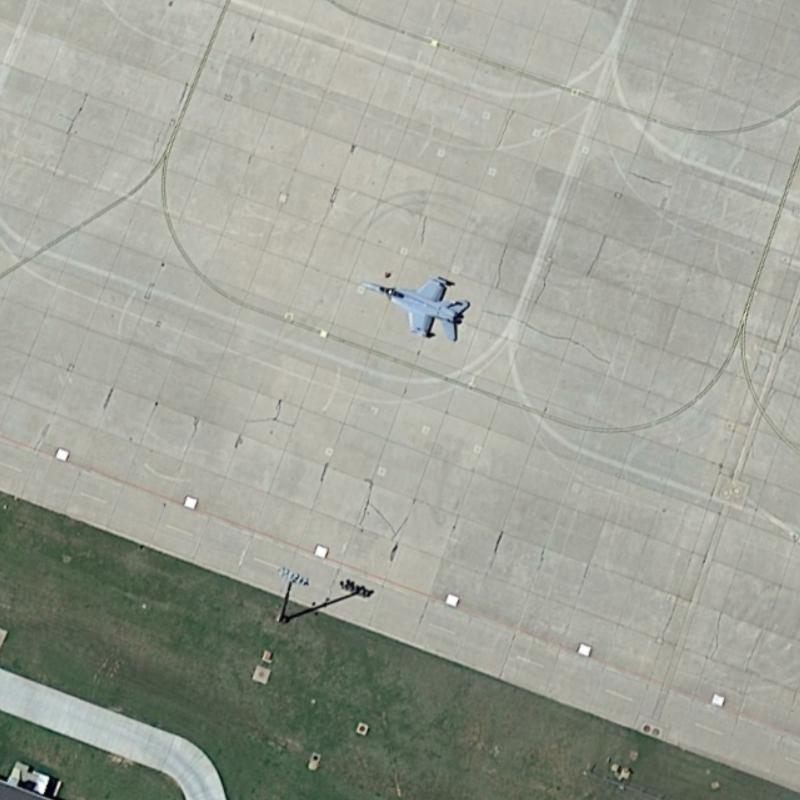A16: (348, 255, 477, 348)
